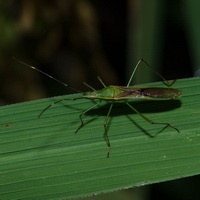insect: (38, 59, 181, 157), (129, 61, 167, 87)
